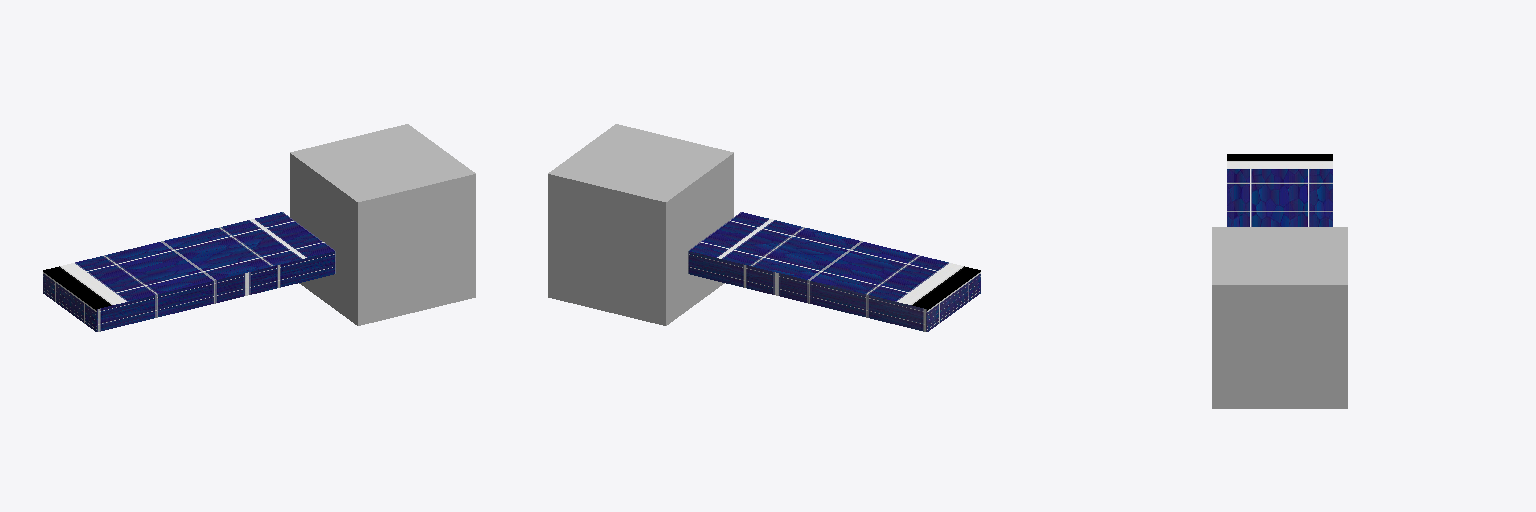
3 renders of one model, left to right at view 1: azimuth 30°, elevation 25°; view 2: azimuth 150°, elevation 25°; view 3: azimuth 270°, elevation 25°, orthographic.
Parts seen in each view (by area): view 1: Cube; view 2: Cube; view 3: Cube.
Boxes of the visible parts, box(x1,y1,x2,y2) form: Cube: box(43, 124, 475, 331); Cube: box(548, 124, 980, 331); Cube: box(1212, 154, 1347, 408).
Size of the model in its own units: 6.29 by 2 by 2.
Materials: 2 (1 with a texture image).